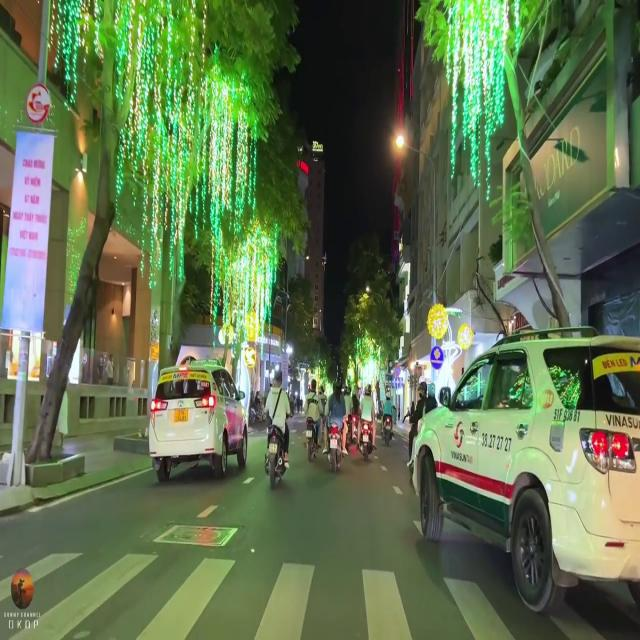bien_vang: (173, 409, 189, 425)
